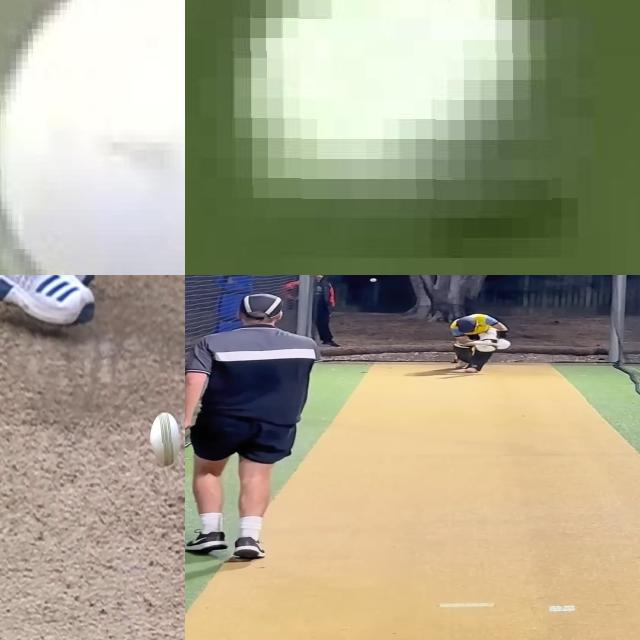Cricket ball: (230, 0, 552, 210), (0, 0, 185, 275), (148, 409, 181, 470), (370, 278, 378, 282)
